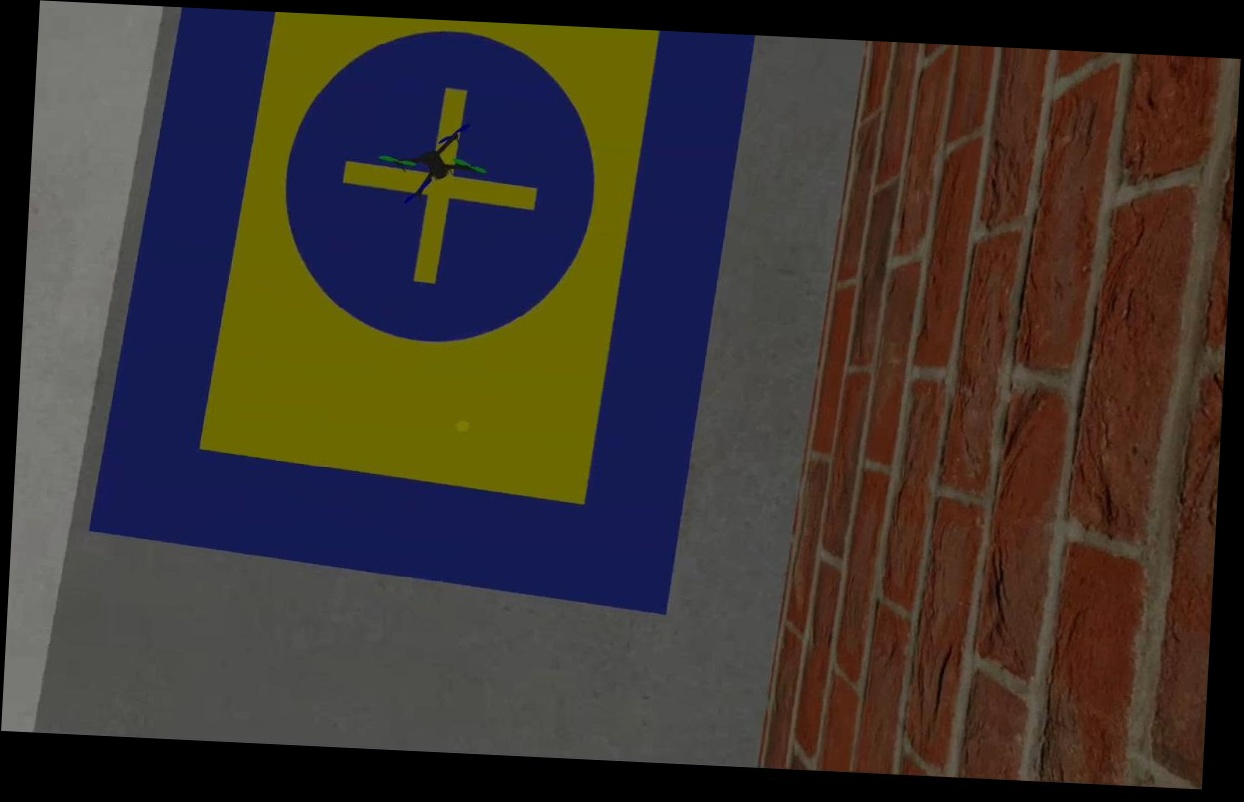large_base: (82, 4, 760, 620)
